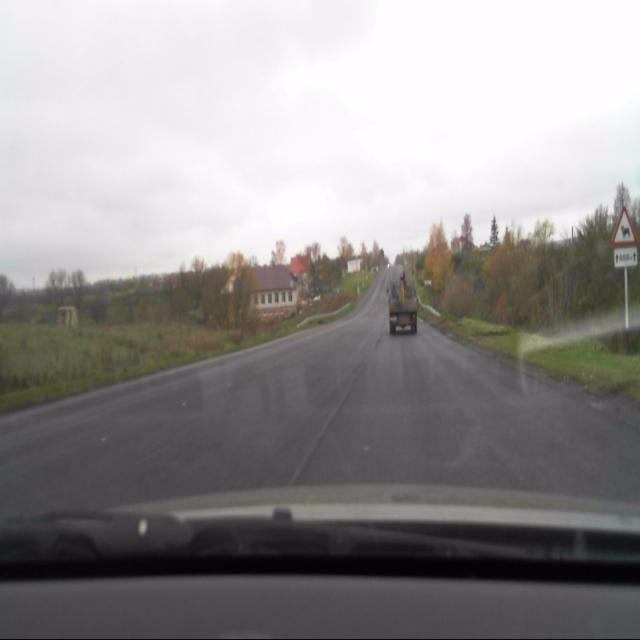object: (624, 268, 630, 328)
road sign: (613, 206, 634, 244), (615, 247, 638, 266)
